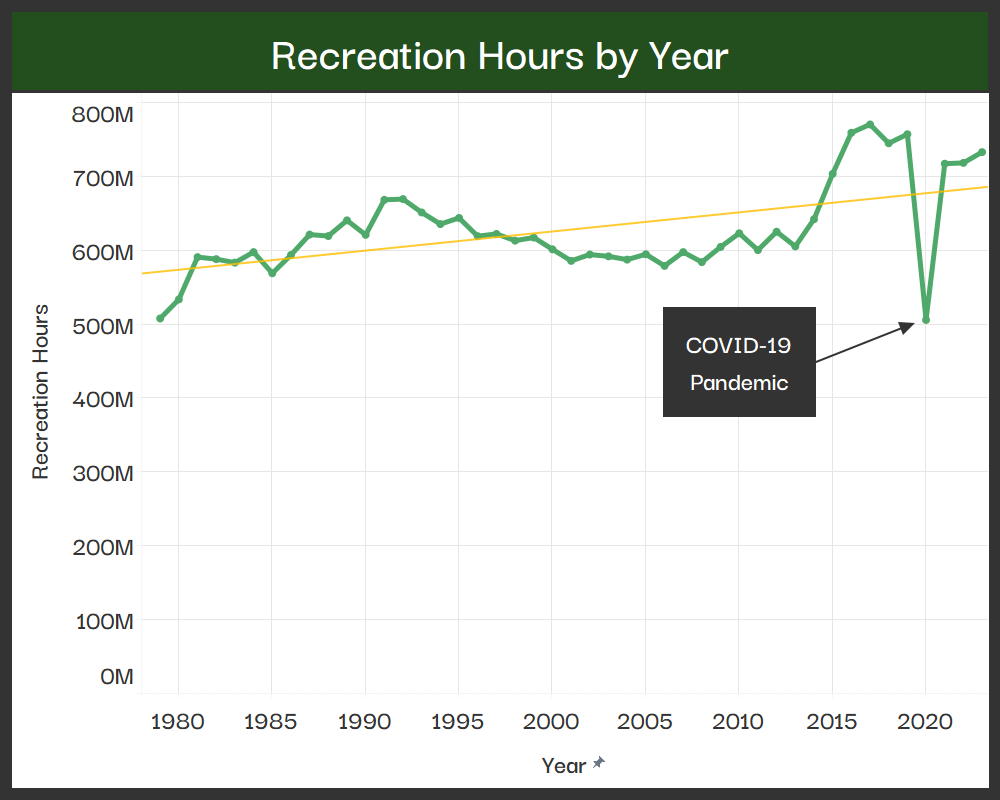

This screenshot's page, from the dashboard's own definition file:
{"tool":"tableau","page":{"name":"RH by Year","canvas":[1000,800],"ordinal":2},"visuals":[{"type":"worksheet","title":"Recreation Hours by Year","mark":"Automatic","rows":["RecreationHours"],"cols":["Calculation_1088182269108641794"],"box":[8,8,984,784]}]}

Visuals, with their boxes in screenshot pixels (x1, y1, x2, y2), scaled from the page's 1000x800 canvas onto the 1000x800 screenshot:
"Recreation Hours by Year" worksheet: {"left": 8, "top": 8, "right": 992, "bottom": 792}
